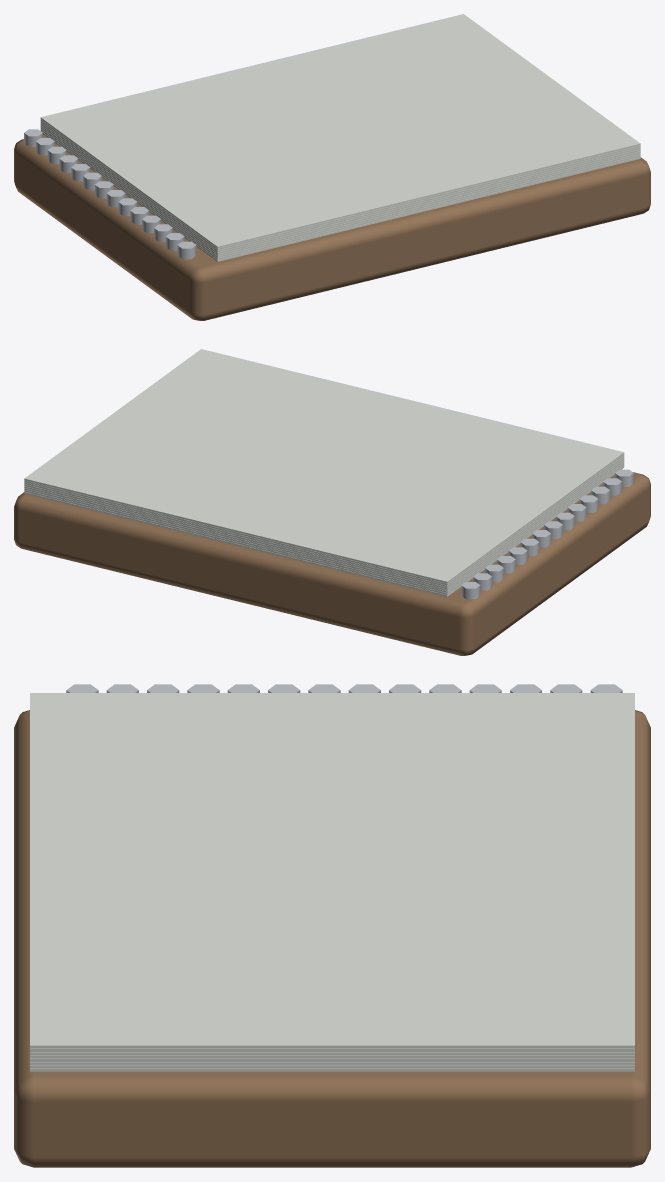
The model's file is notebook01.glb.
The picture shows the model from 3 angles, top to bottom: view 1: azimuth 30°, elevation 25°; view 2: azimuth 150°, elevation 25°; view 3: azimuth 270°, elevation 25°; orthographic projection. The views are drawn at different scales.
Visible parts, largest first — view 1: pages, cover, spiral; view 2: pages, cover, spiral; view 3: pages, cover, spiral.
Part boxes in pixels (x1,y1,x2,y2): pages: (40,14,640,261); cover: (14,134,650,320); spiral: (24,129,196,259); pages: (24,349,624,596); cover: (14,472,650,655); spiral: (461,469,633,599); pages: (30,693,634,1071); cover: (14,710,650,1167); spiral: (66,684,622,692).
Bounding box in the file's own units: 0.225 × 0.0332 × 0.158.
